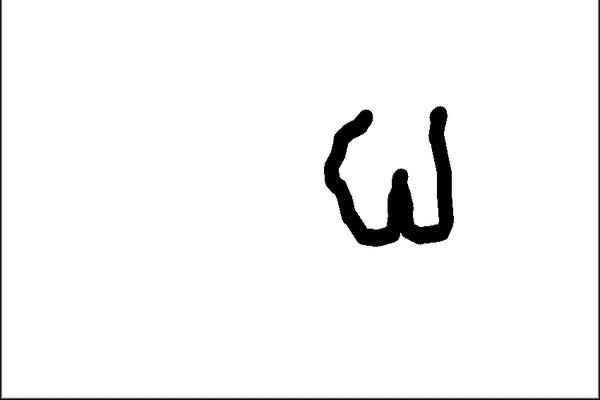w: (299, 95, 487, 260)
